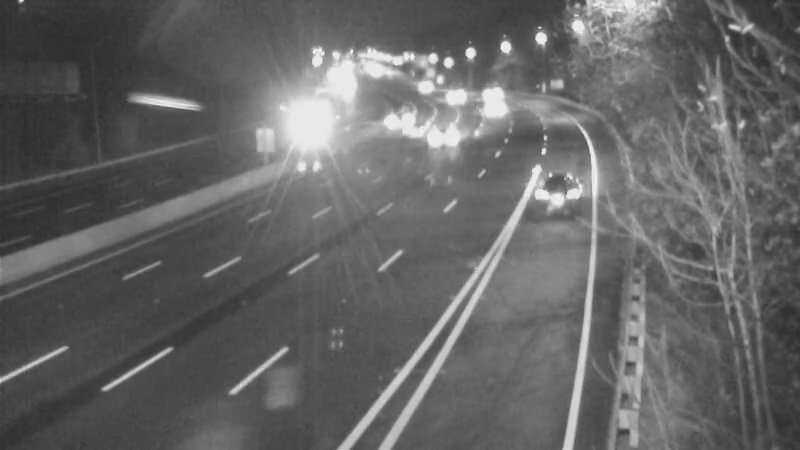vehicle: (516, 156, 596, 236), (399, 65, 449, 115), (460, 72, 510, 122), (426, 70, 476, 120), (466, 79, 516, 129), (369, 91, 419, 141), (381, 104, 431, 154), (419, 108, 469, 158), (275, 97, 325, 147)
